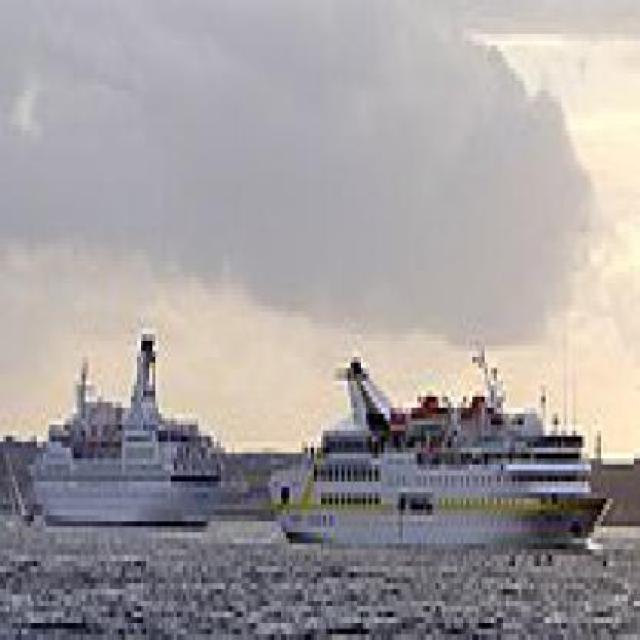cruise: (263, 324, 620, 573), (19, 301, 236, 546)
